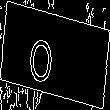O_N: (41, 26, 69, 84)
